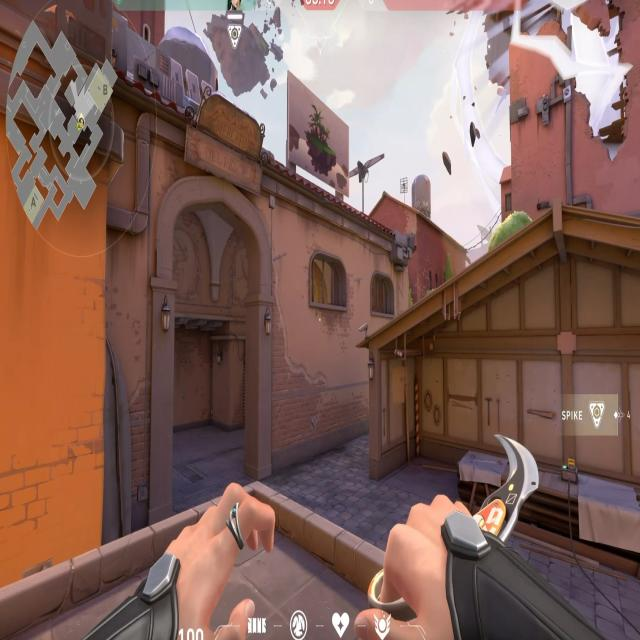B_Garage_Left: (374, 347, 494, 487)
Throwables: (305, 242, 353, 322), (367, 263, 400, 325)
